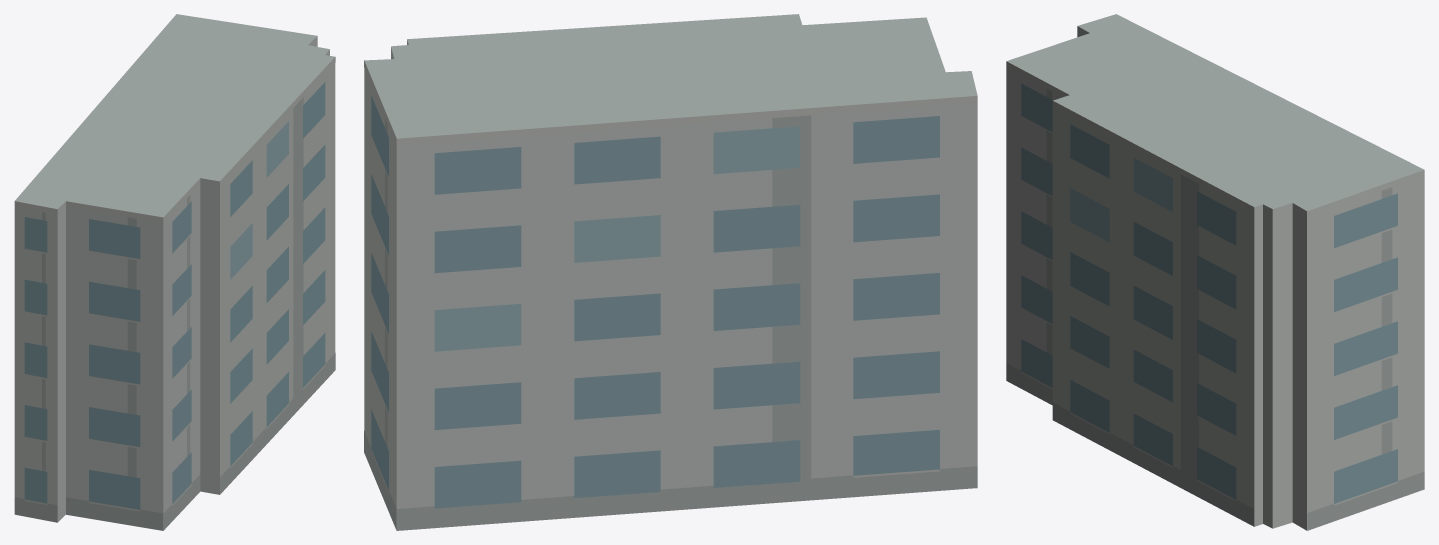
The model's file is survey-upis-32885690.glb.
The picture shows the model from 3 angles, left to right: view 1: azimuth 30°, elevation 25°; view 2: azimuth 150°, elevation 25°; view 3: azimuth 270°, elevation 25°; orthographic projection. The views are drawn at different scales.
Parts seen in each view (by area): view 1: survey-upis-32885690.tmp; view 2: survey-upis-32885690.tmp; view 3: survey-upis-32885690.tmp.
Boxes of the visible parts, <box> form: survey-upis-32885690.tmp: <box>14,14,335,530</box>; survey-upis-32885690.tmp: <box>364,14,977,530</box>; survey-upis-32885690.tmp: <box>1006,14,1424,530</box>.
Bounding box in the file's own units: 17.49 × 13.2 × 15.67.
